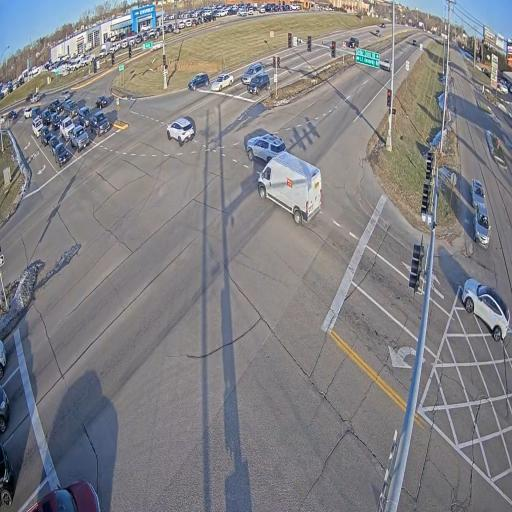pickup: (70, 124, 90, 152), (90, 110, 110, 136), (61, 116, 75, 141), (49, 99, 63, 113)
sedan: (211, 73, 234, 91), (471, 179, 484, 208), (50, 135, 60, 156), (96, 95, 108, 109), (0, 115, 6, 123)
suv: (462, 278, 510, 342), (28, 480, 101, 512), (247, 133, 286, 162), (166, 118, 195, 146), (474, 203, 490, 247), (242, 63, 265, 85), (248, 73, 269, 95), (188, 73, 210, 90), (55, 143, 70, 166), (78, 106, 92, 128), (64, 100, 78, 119), (40, 126, 52, 146), (50, 113, 61, 130), (40, 109, 50, 125), (60, 90, 72, 102), (347, 37, 359, 48), (30, 93, 40, 103), (24, 107, 32, 118), (8, 110, 17, 119), (375, 29, 381, 37), (412, 39, 417, 46), (381, 23, 385, 28)
van: (258, 151, 322, 225), (32, 116, 43, 137), (31, 107, 43, 119)
